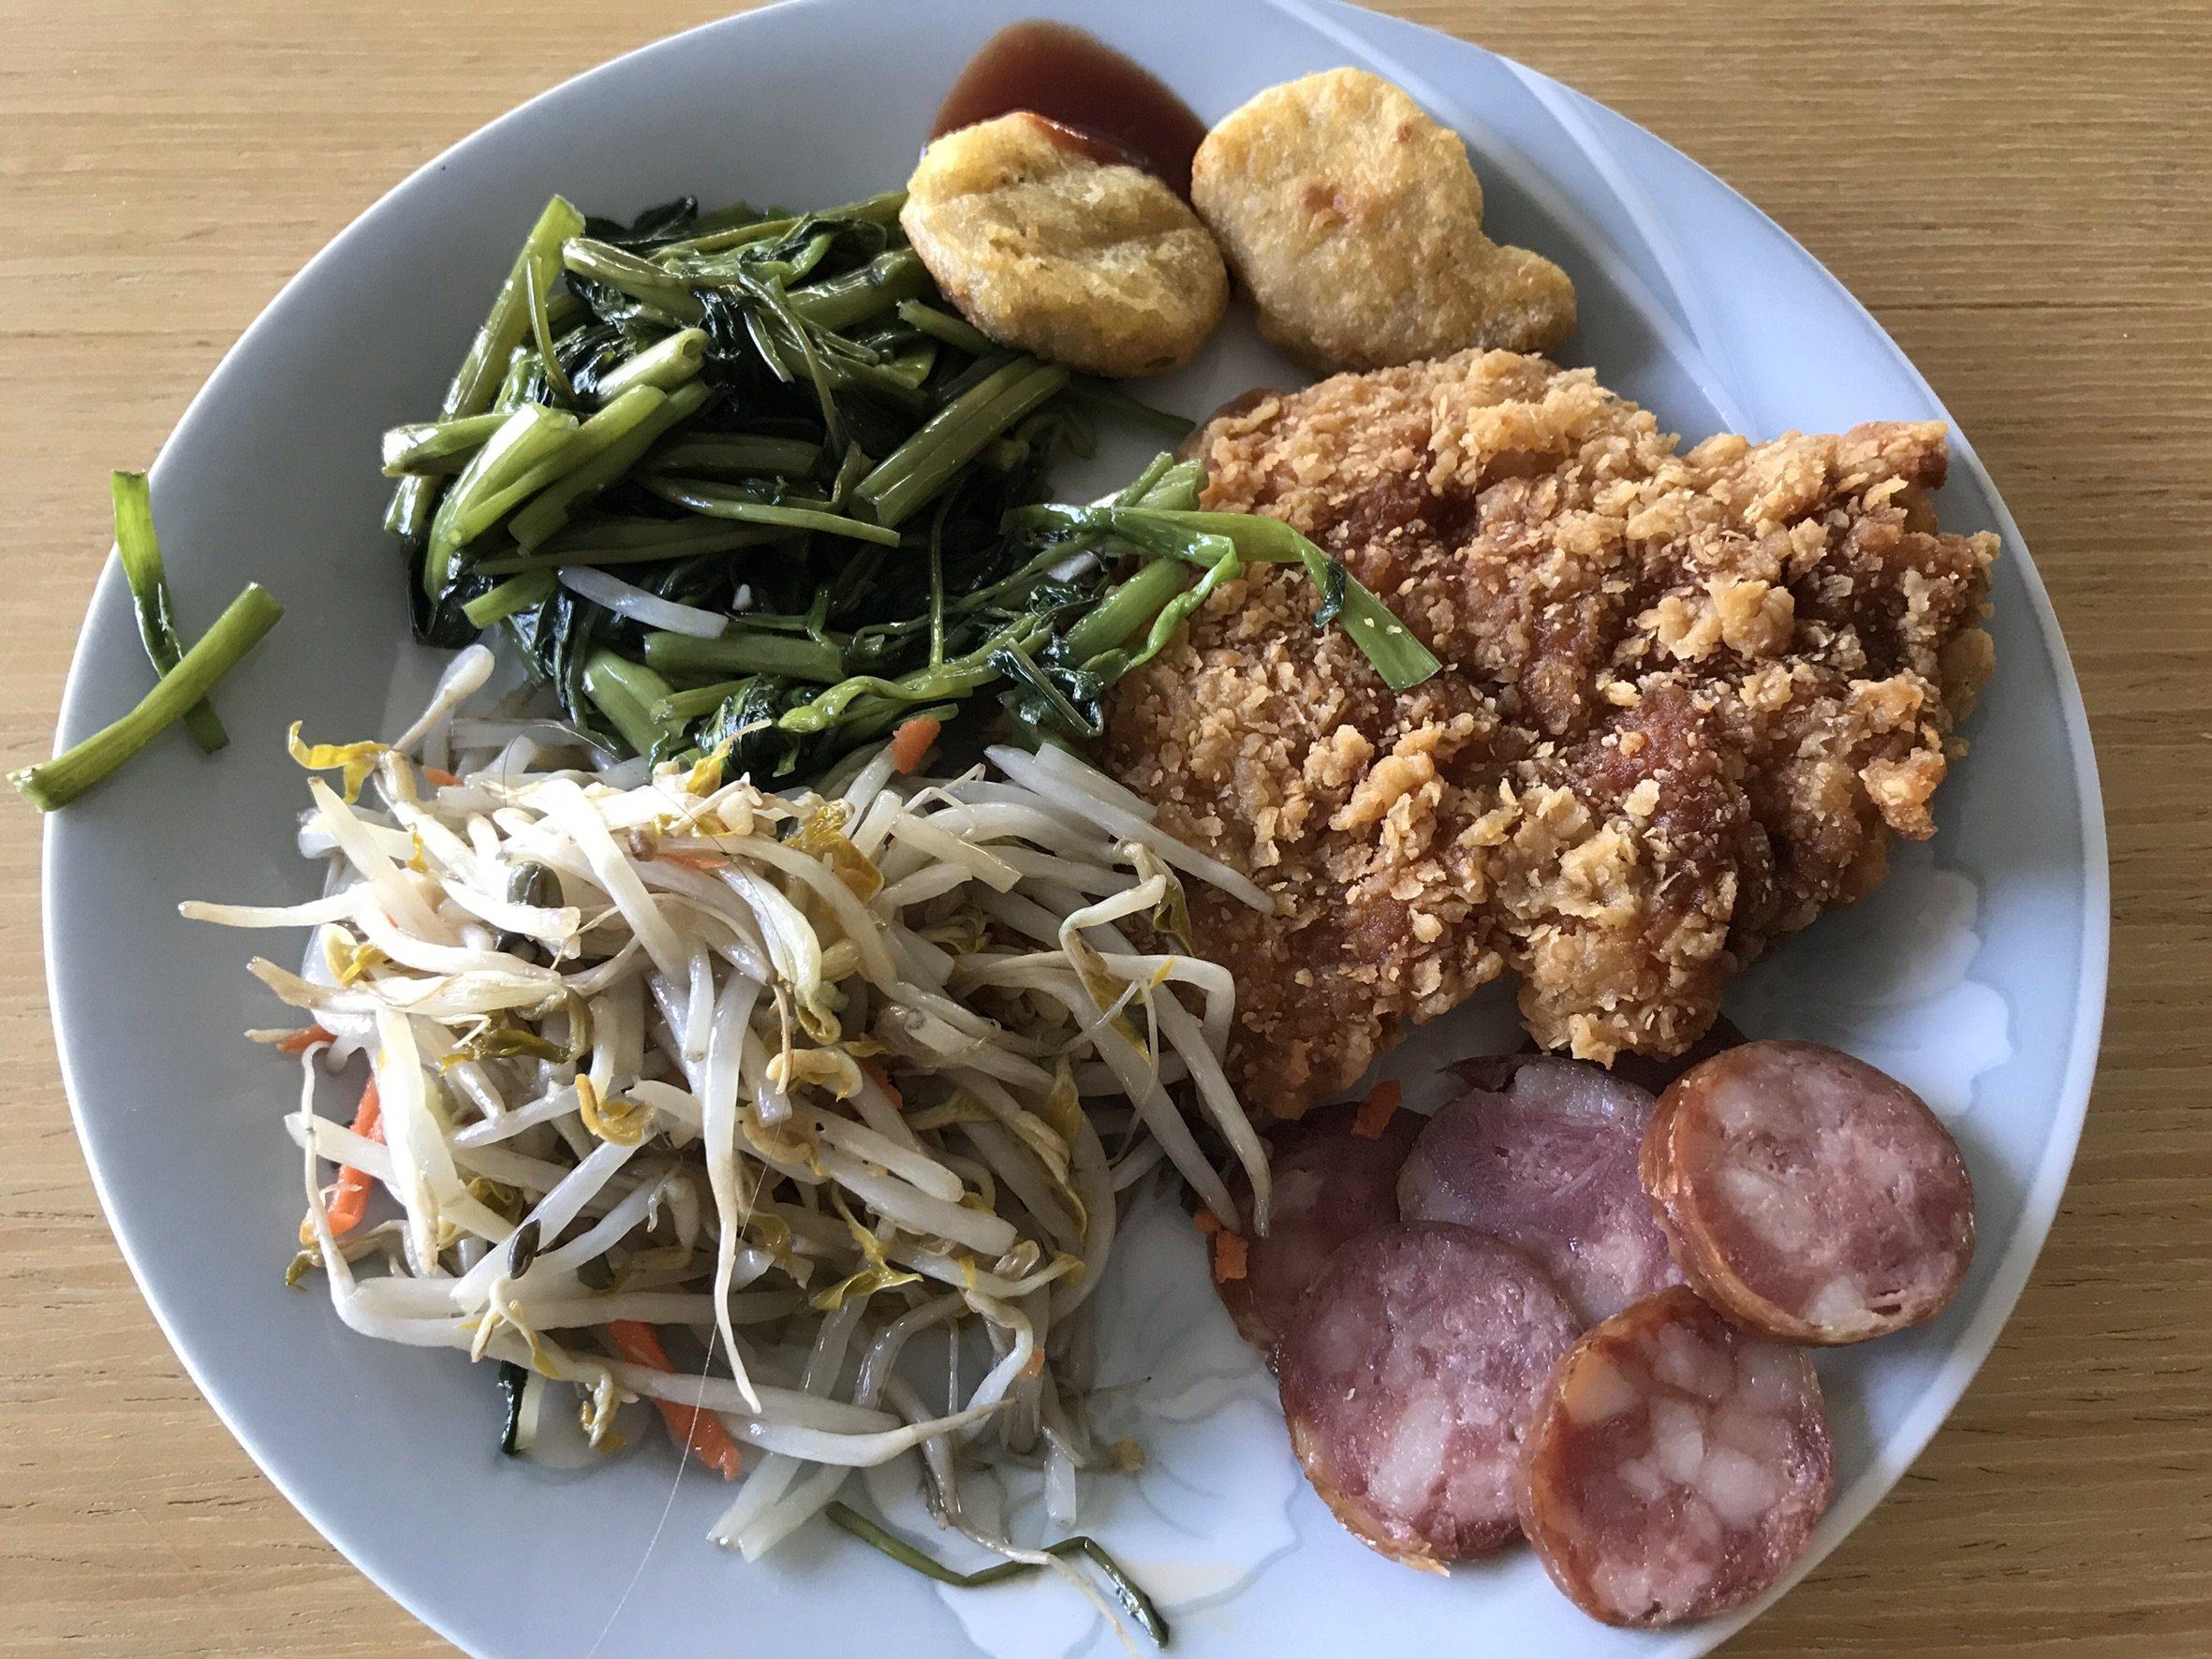chicken_nuggets: (910, 70, 1579, 368)
chinese_sausage: (1215, 1058, 1968, 1626)
fried_chicken: (1133, 350, 1989, 1061)
mung_bean_sprouts: (295, 744, 1166, 1469)
water_spinach: (399, 220, 1110, 737)
